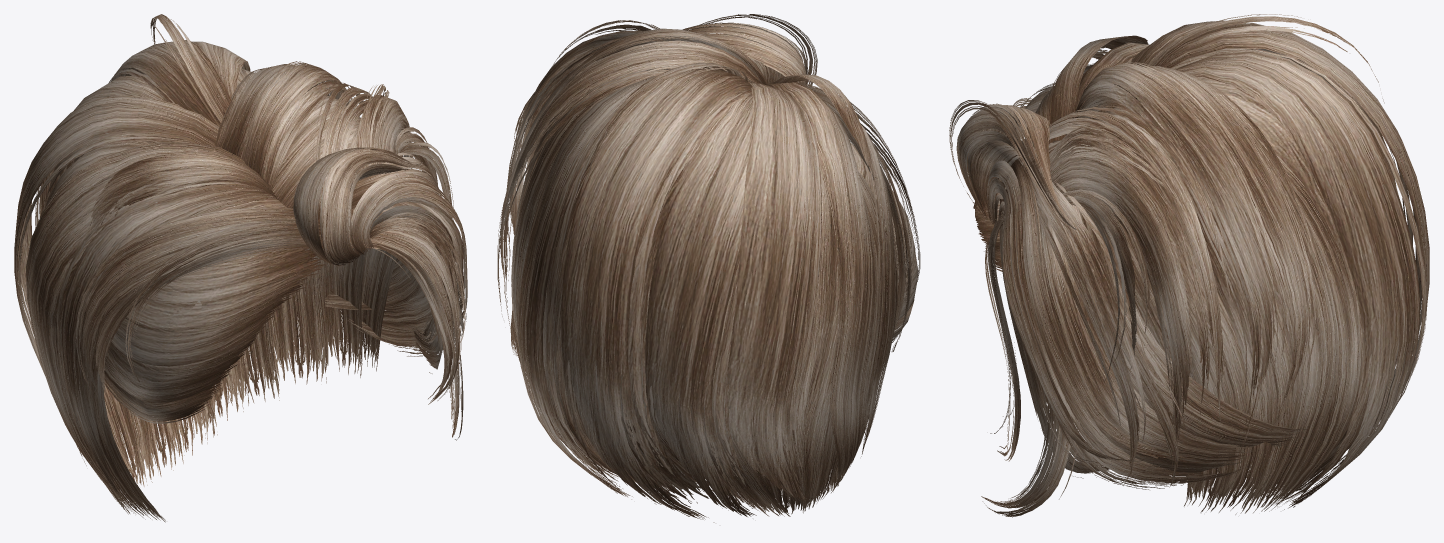
File: TouFa.FBX
The picture shows the model from 3 angles, left to right: view 1: azimuth 30°, elevation 25°; view 2: azimuth 150°, elevation 25°; view 3: azimuth 270°, elevation 25°; orthographic projection. The views are drawn at different scales.
Parts seen in each view (by area): view 1: sky121; view 2: sky121; view 3: sky121.
Part boxes in pixels (<box>): sky121: <box>14,14,467,522</box>; sky121: <box>497,14,920,522</box>; sky121: <box>949,14,1429,517</box>.
Bounding box in the file's own units: 28.22 × 31.16 × 27.29.
